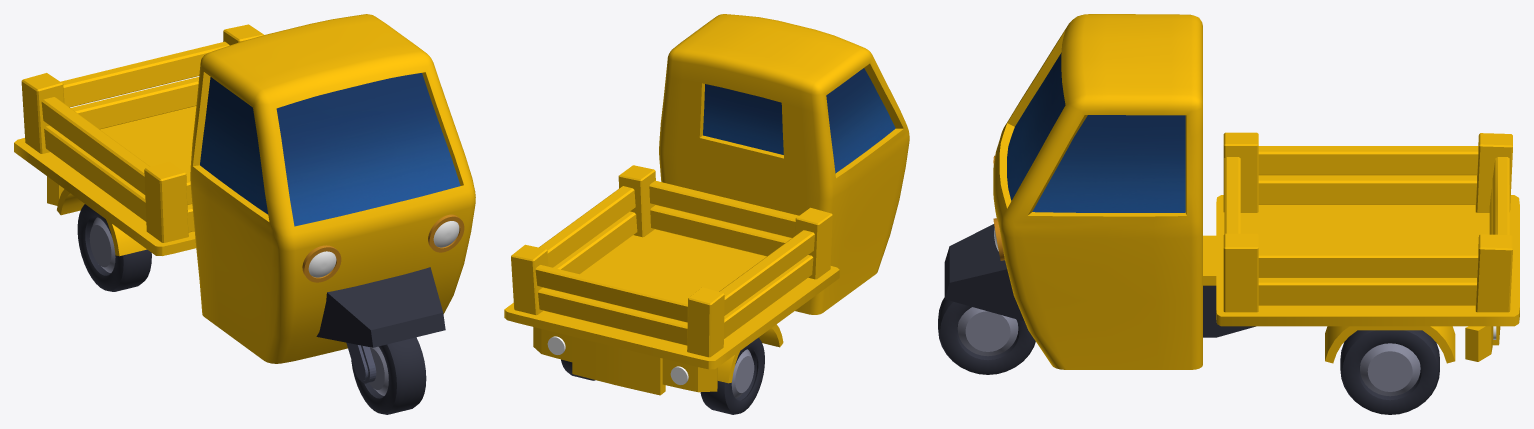
File: Car_4.fbx
3 renders of one model, left to right at view 1: azimuth 30°, elevation 25°; view 2: azimuth 150°, elevation 25°; view 3: azimuth 270°, elevation 25°, orthographic. The views are drawn at different scales.
Visible parts, largest first — view 1: Cube.081; view 2: Cube.081; view 3: Cube.081.
Part boxes in pixels (bbox=[...]): Cube.081: bbox=[14, 14, 475, 414]; Cube.081: bbox=[504, 14, 909, 414]; Cube.081: bbox=[938, 14, 1519, 414].
Size of the model in its own units: 496 by 611 by 1004.
Materials: 1 (1 with a texture image).
